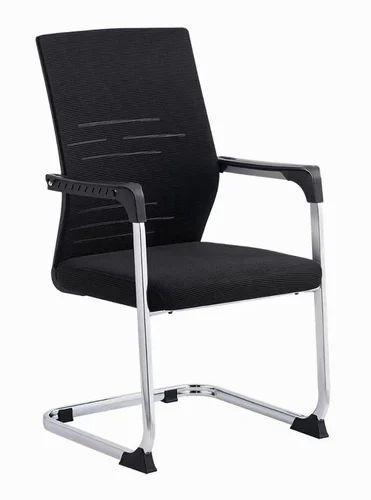chair: (26, 16, 339, 478)
